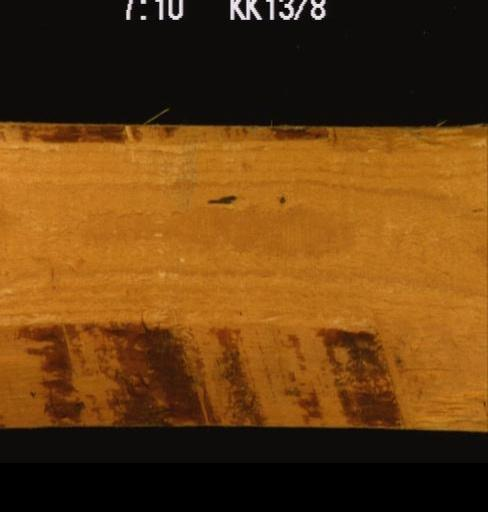small_knot: (272, 189, 287, 206)
wave: (0, 318, 486, 430), (2, 121, 349, 154)
